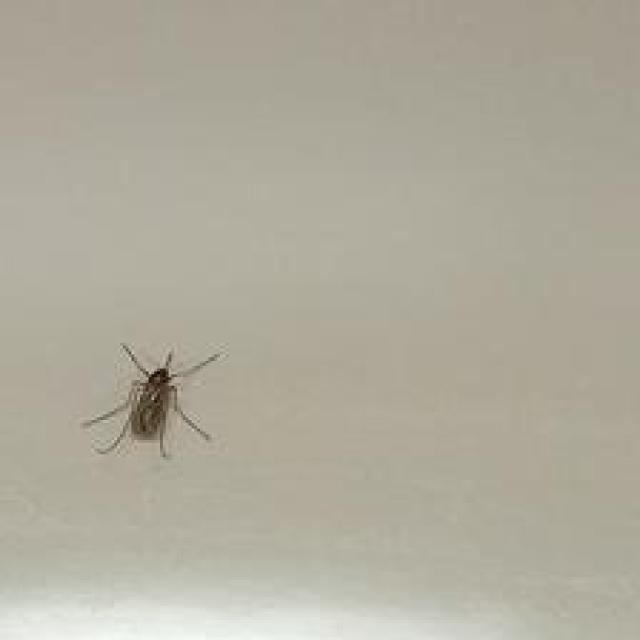Culex: (80, 340, 226, 460)
